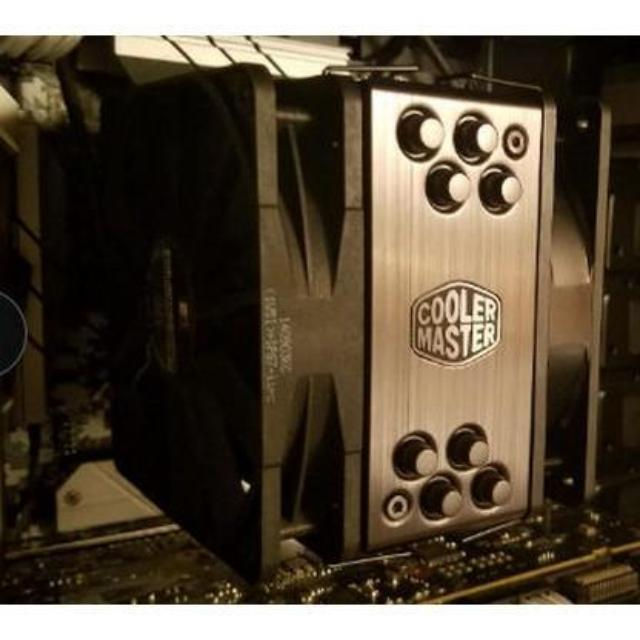CPU_Fan: (112, 84, 590, 576)
